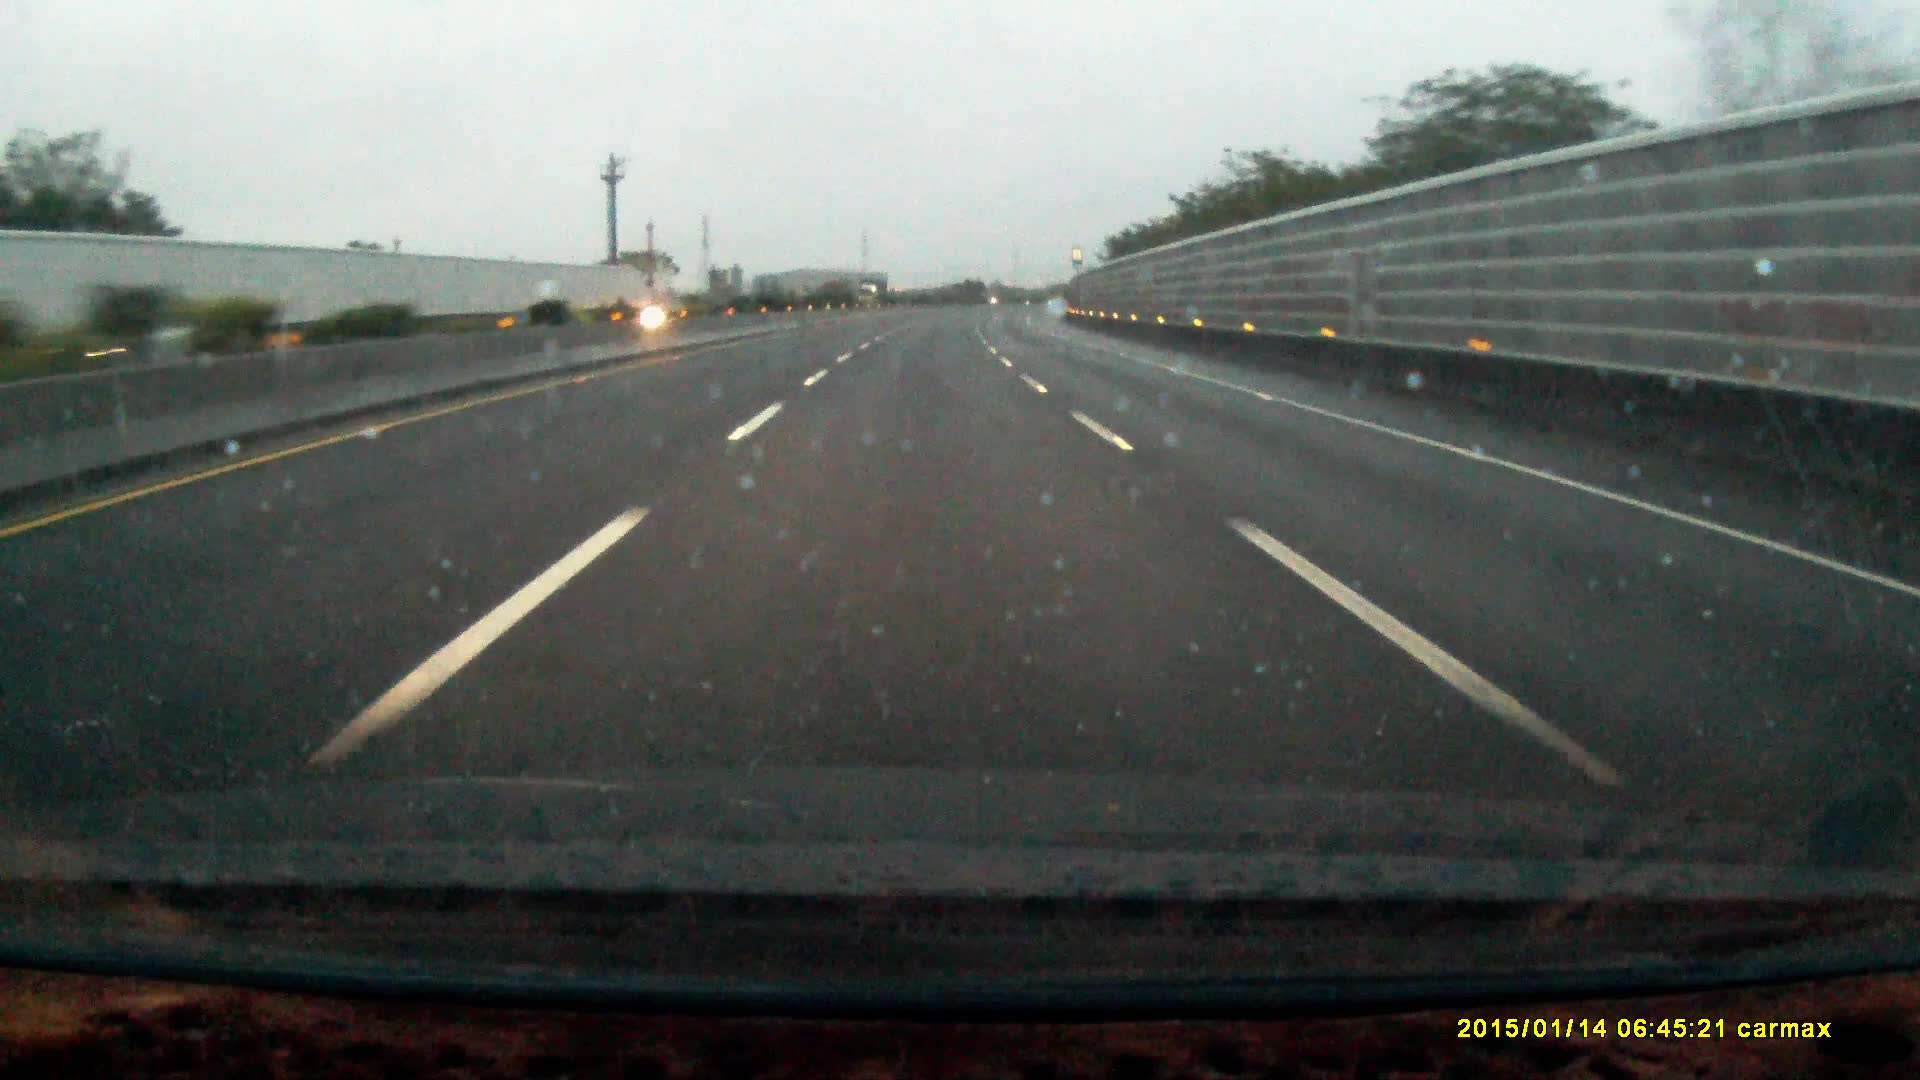vehicle: (858, 277, 891, 305)
